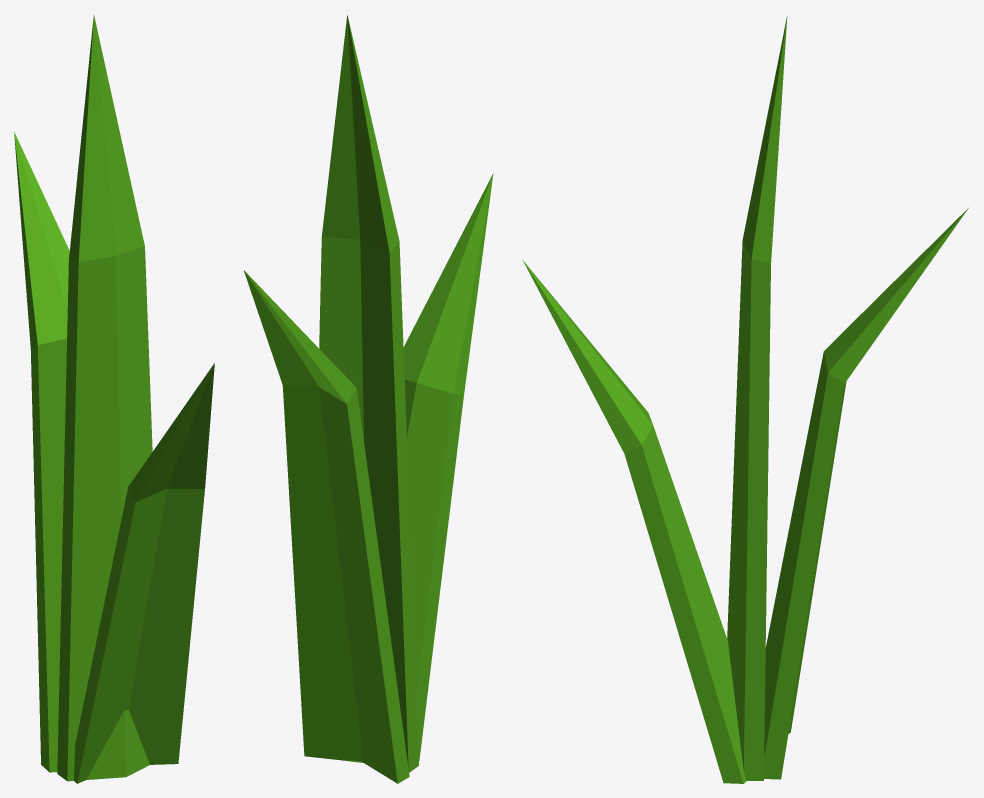
File: Grass_c_01.fbx
3 views of the same model, side by side, from view 1: azimuth 30°, elevation 25°; view 2: azimuth 150°, elevation 25°; view 3: azimuth 270°, elevation 25° (orthographic). The views are drawn at different scales.
Visible parts, largest first — view 1: Grass_g_01_LOD0; view 2: Grass_g_01_LOD0; view 3: Grass_g_01_LOD0.
Boxes of the visible parts, bbox=[...] form: Grass_g_01_LOD0: bbox=[14, 15, 214, 783]; Grass_g_01_LOD0: bbox=[243, 15, 493, 783]; Grass_g_01_LOD0: bbox=[523, 16, 968, 783].
Bounding box in the file's own units: 2.77 × 10.01 × 18.34.
